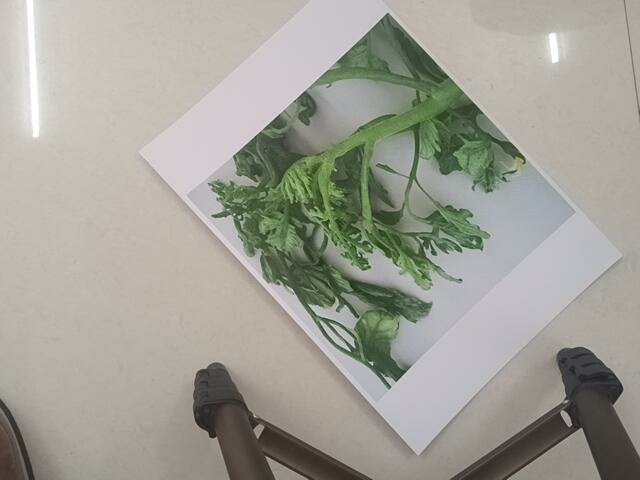Tomamto_Mosaic_virus: (192, 47, 606, 353)
